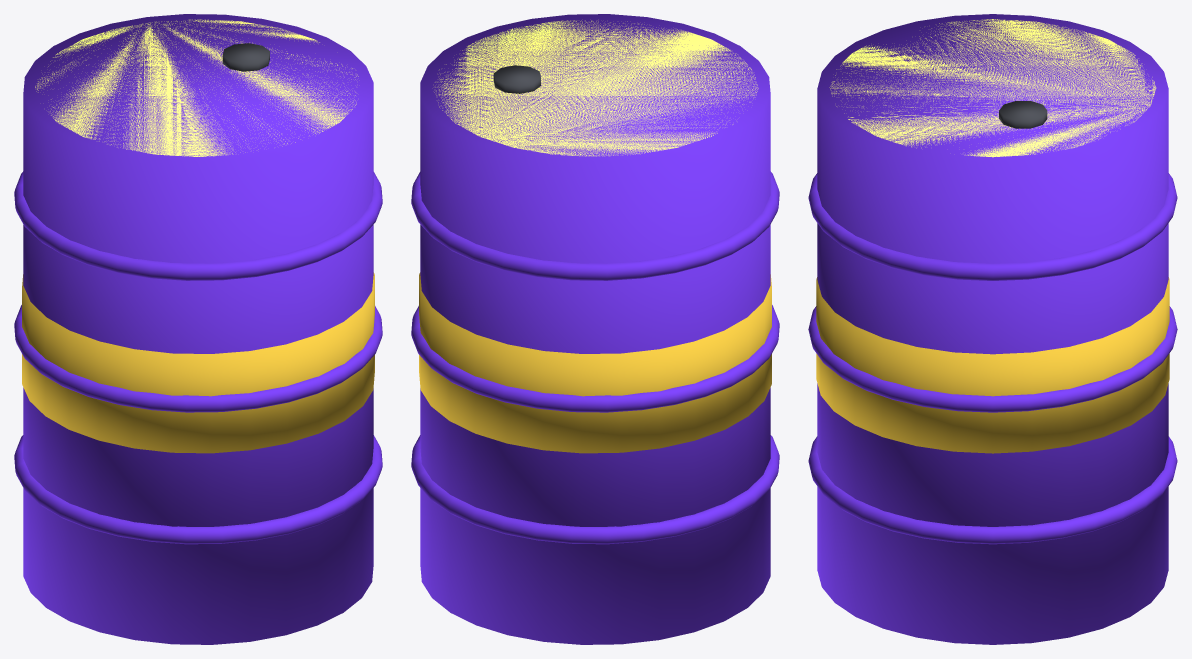
Rendered from Trash_Drum.fbx.
The picture shows the model from 3 angles, left to right: view 1: azimuth 30°, elevation 25°; view 2: azimuth 150°, elevation 25°; view 3: azimuth 270°, elevation 25°; orthographic projection.
Parts seen in each view (by area): view 1: Trash_Drum; view 2: Trash_Drum; view 3: Trash_Drum.
Part boxes in pixels (x1,y1,x2,y2): Trash_Drum: (14,14,382,644); Trash_Drum: (411,14,779,644); Trash_Drum: (808,14,1177,644).
Bounding box in the file's own units: 0.61 × 0.895 × 0.61.
